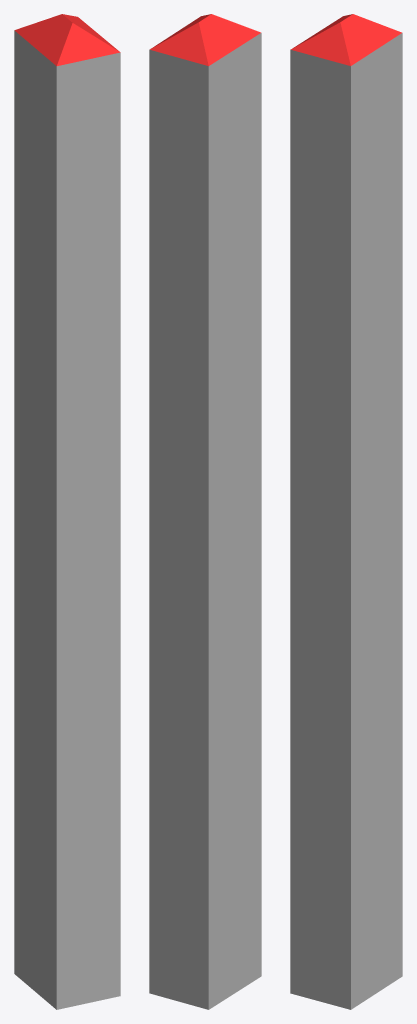
The model's file is DEBE3D00YY2oD0000i.dae.
3 views of the same model, side by side, from view 1: azimuth 30°, elevation 25°; view 2: azimuth 150°, elevation 25°; view 3: azimuth 330°, elevation 25° (orthographic).
Bounding box in the file's own units: 1.42 × 1.82 × 19.68.
